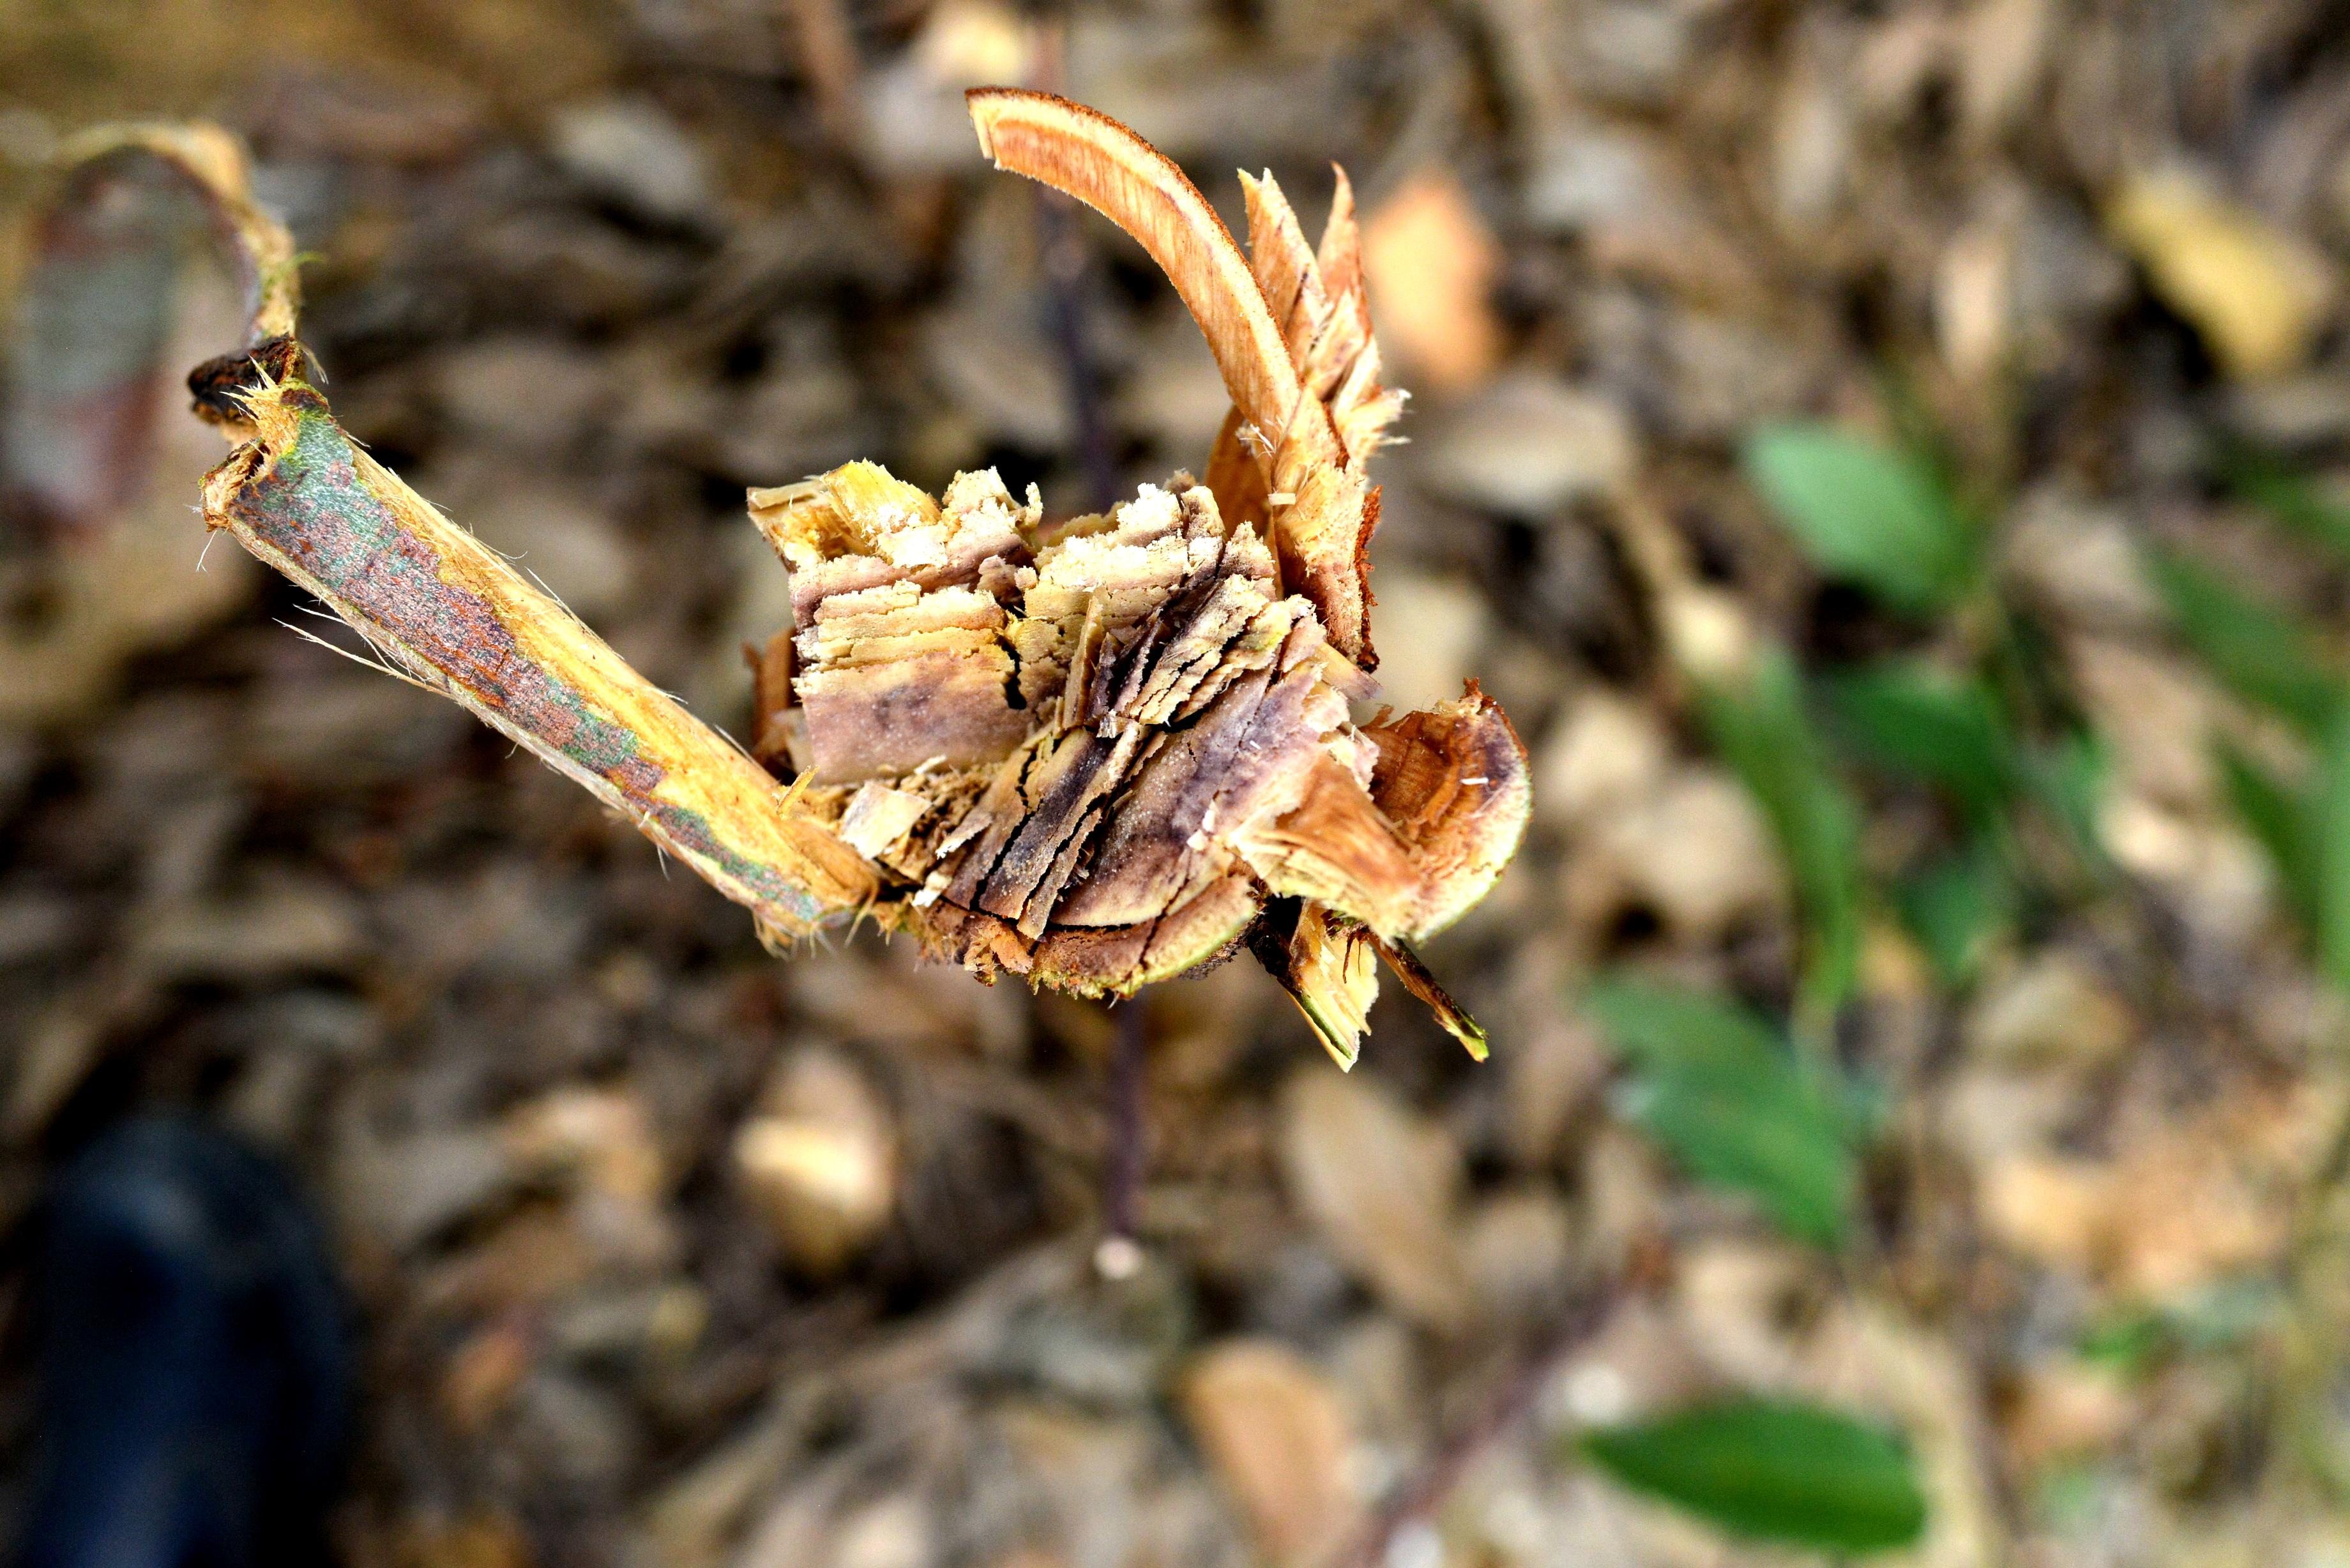Ralstonia: (978, 759, 1088, 915), (1109, 735, 1202, 884), (864, 677, 929, 766), (856, 488, 941, 549)
